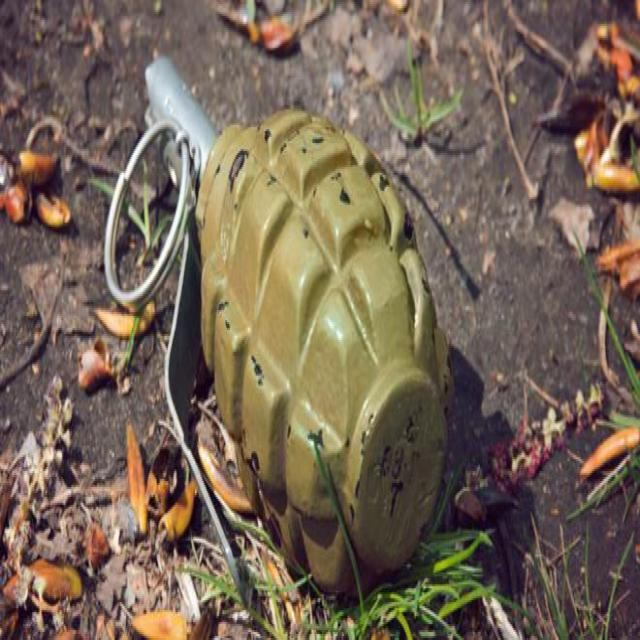grenade: (106, 59, 456, 603)
